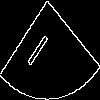I: (25, 24, 55, 69)
